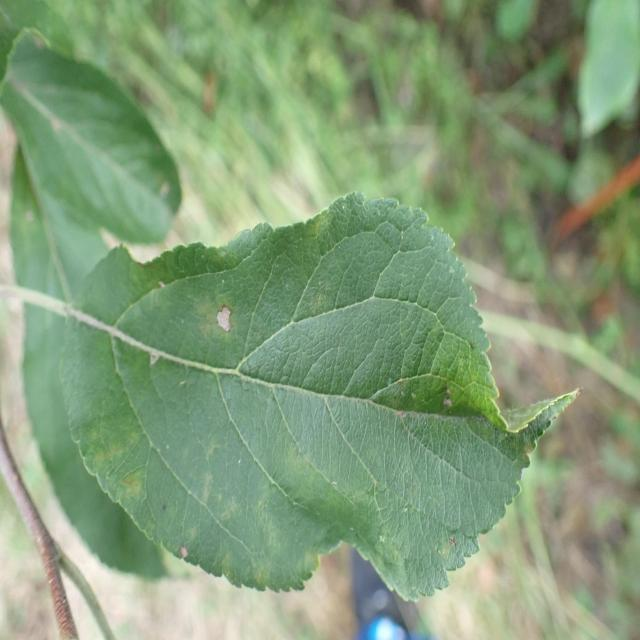frog-eye-leaf-spot: (59, 192, 583, 602)
